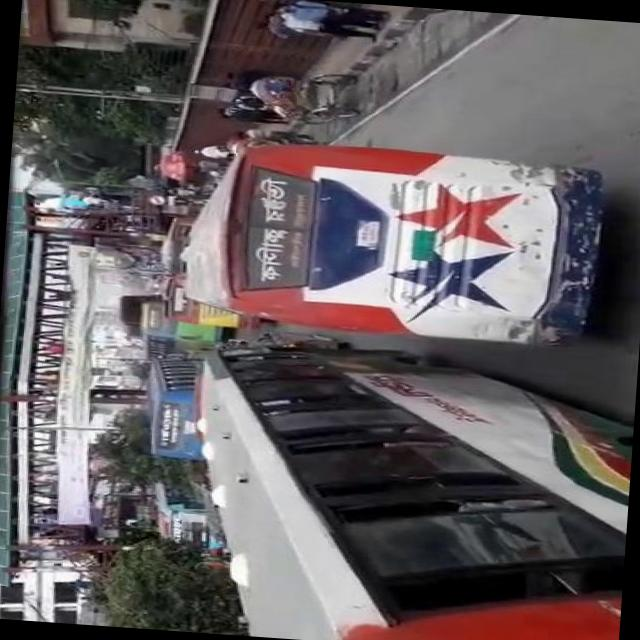bus: (173, 332, 632, 640), (176, 130, 610, 347), (138, 350, 209, 457), (144, 476, 222, 550), (158, 273, 262, 328), (136, 298, 219, 354), (156, 212, 192, 272)
motorcycle: (245, 63, 358, 125)
